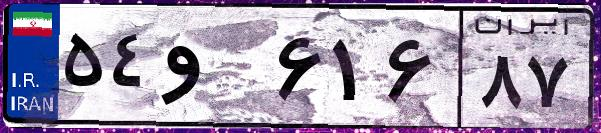1: (330, 28, 385, 110)
4: (110, 28, 158, 98)
5: (57, 26, 110, 100)
6: (270, 28, 330, 110), (385, 28, 445, 110)
7: (525, 38, 570, 115)
8: (475, 38, 525, 113)
و: (158, 20, 270, 120)
